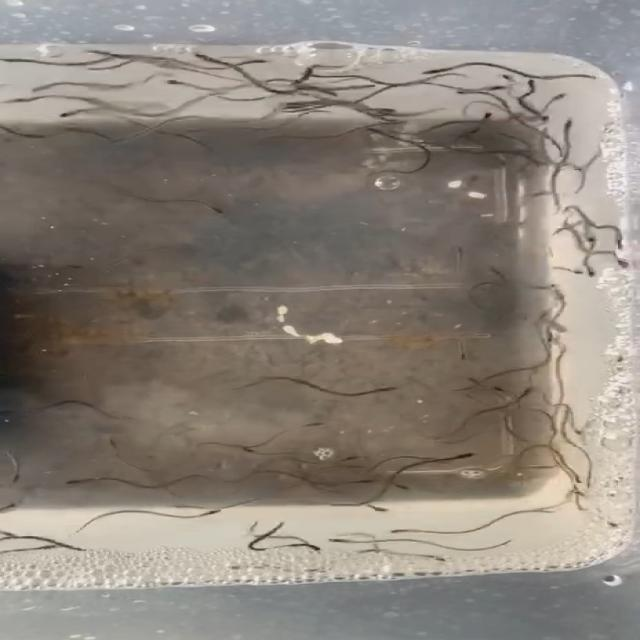inactive_glass_eel: (298, 417, 346, 432), (370, 380, 410, 397), (96, 435, 126, 455), (564, 422, 596, 440), (538, 90, 574, 106), (444, 449, 488, 462), (56, 538, 86, 556), (66, 124, 110, 136), (474, 268, 525, 278), (232, 444, 267, 458), (466, 370, 492, 388), (466, 328, 502, 341), (366, 102, 402, 114), (32, 125, 56, 143), (415, 66, 458, 76), (347, 78, 372, 95), (196, 508, 222, 524), (278, 100, 312, 112), (7, 472, 32, 488), (304, 540, 329, 556), (558, 117, 588, 130), (66, 472, 90, 488), (578, 261, 602, 277), (58, 105, 80, 122), (452, 351, 478, 365), (164, 75, 190, 89), (540, 329, 564, 344), (187, 51, 213, 64), (488, 382, 512, 396), (473, 110, 501, 122), (348, 475, 373, 488), (293, 68, 314, 83), (512, 384, 538, 396), (4, 408, 32, 419), (570, 474, 590, 489), (245, 58, 269, 70), (6, 95, 30, 107), (4, 498, 24, 512), (367, 504, 395, 514), (385, 522, 405, 536), (518, 78, 538, 92), (2, 57, 30, 67), (313, 88, 341, 98), (452, 244, 478, 254), (35, 81, 56, 93), (419, 554, 444, 564), (392, 481, 414, 492), (582, 232, 602, 244), (369, 126, 389, 138), (328, 535, 354, 544), (339, 454, 370, 461), (486, 84, 506, 92), (498, 76, 518, 80)
